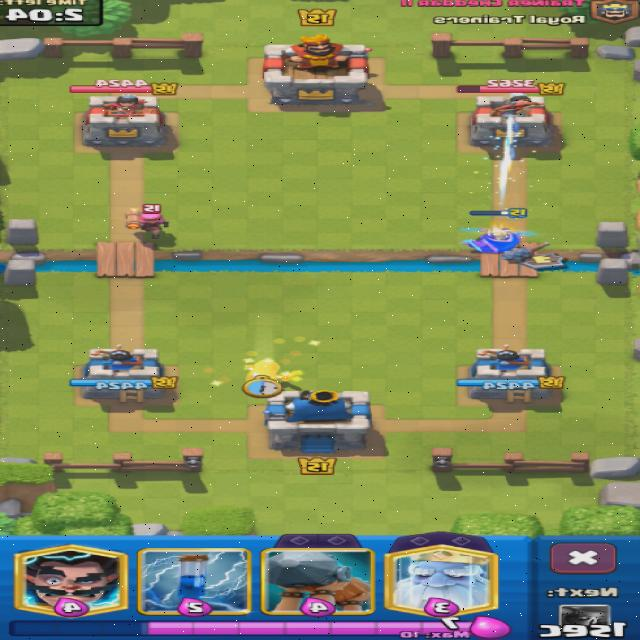Enemy-Firecracker: (123, 207, 170, 240)
Enemy-KingTower: (264, 36, 368, 107)
Enemy-PrincessTower: (83, 95, 167, 147), (471, 95, 554, 146)
Player-Bandit: (247, 359, 300, 381)
Player-KingTower: (264, 391, 372, 452)
Player-MagicArcher: (463, 226, 533, 253)
Player-PrincessTower: (457, 345, 566, 402), (82, 345, 165, 401)
